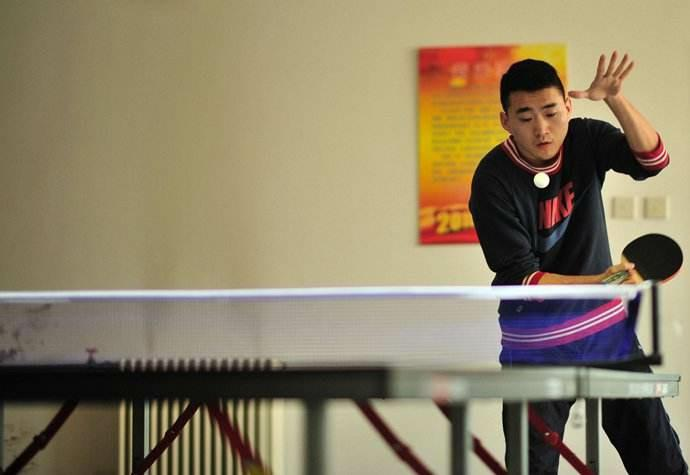ball: (529, 168, 552, 191)
